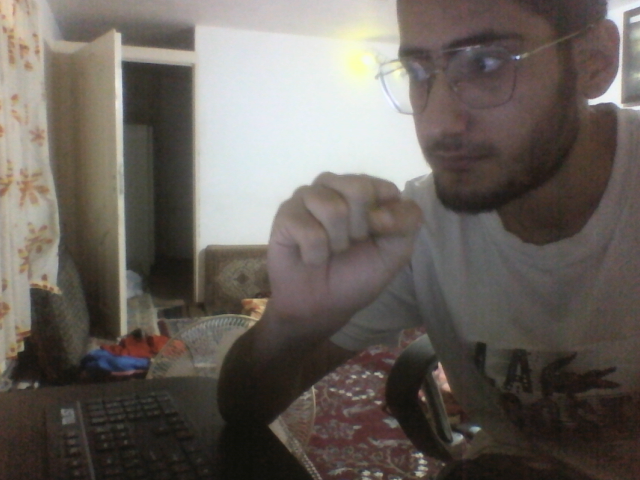attack: (264, 167, 417, 328)
